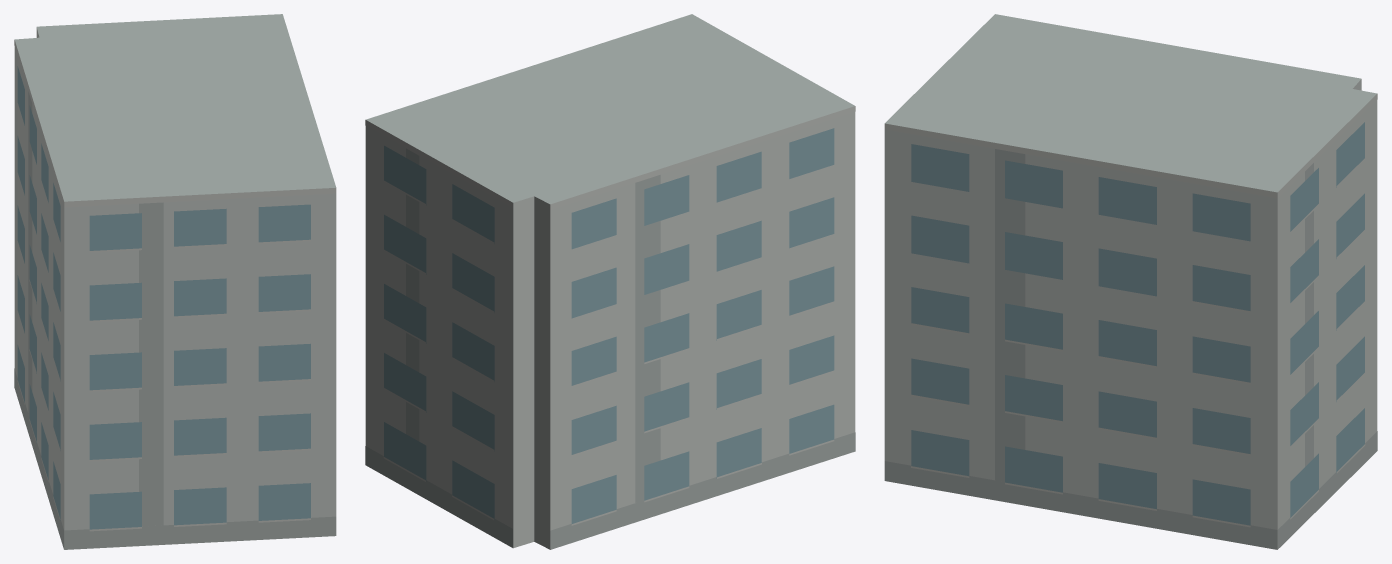
Rendered from survey-upis-32887694.glb.
The picture shows the model from 3 angles, left to right: view 1: azimuth 30°, elevation 25°; view 2: azimuth 150°, elevation 25°; view 3: azimuth 270°, elevation 25°; orthographic projection. The views are drawn at different scales.
Parts seen in each view (by area): view 1: survey-upis-32887694.tmp; view 2: survey-upis-32887694.tmp; view 3: survey-upis-32887694.tmp.
Part boxes in pixels (x1,y1,x2,y2): survey-upis-32887694.tmp: [14, 14, 336, 549]; survey-upis-32887694.tmp: [365, 14, 855, 549]; survey-upis-32887694.tmp: [884, 14, 1377, 549].
Bounding box in the file's own units: 15.42 × 14.4 × 18.
